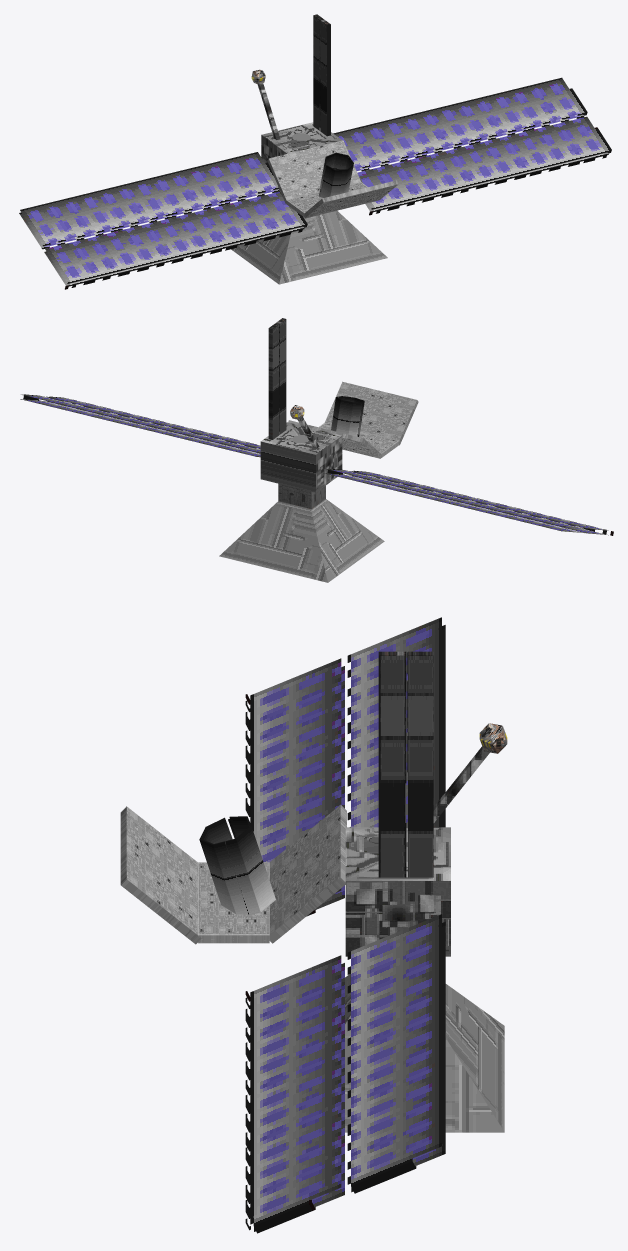
Rendered from dis2.obj.
3 views of the same model, one above another, from view 1: azimuth 30°, elevation 25°; view 2: azimuth 150°, elevation 25°; view 3: azimuth 270°, elevation 25° (orthographic). The views are drawn at different scales.
Size of the model in its own units: 10.09 by 3.92 by 3.08.
9 materials, 9 textured.
